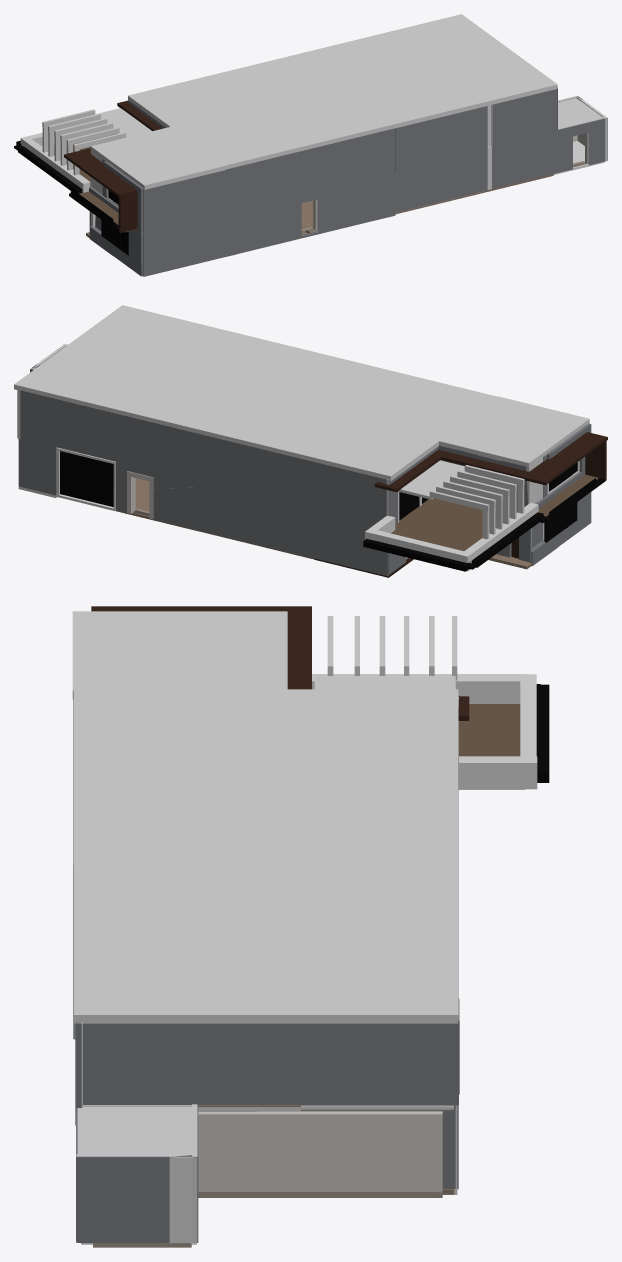
Rendered from modern-house.zfix-v3.lod0.glb.
The picture shows the model from 3 angles, top to bottom: view 1: azimuth 30°, elevation 25°; view 2: azimuth 150°, elevation 25°; view 3: azimuth 270°, elevation 25°; orthographic projection. The views are drawn at different scales.
Visible parts, largest first — view 1: Object_2; view 2: Object_2; view 3: Object_2.
Boxes of the visible parts, left/top/right/bottom form: Object_2: left=14, top=14, right=607, bottom=276; Object_2: left=14, top=305, right=607, bottom=577; Object_2: left=72, top=606, right=549, bottom=1247.
Size of the model in its own units: 35.73 by 6.46 by 15.19.
